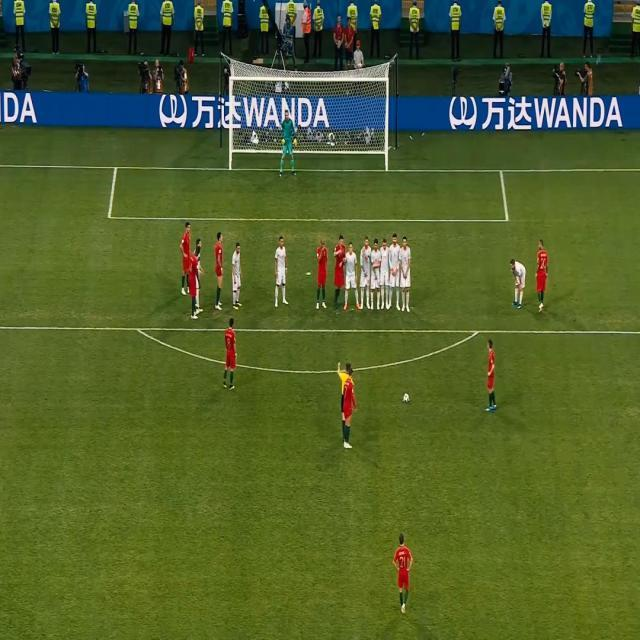ball: (402, 392, 410, 404)
goalkeeper: (277, 110, 299, 180)
player: (391, 532, 416, 618), (221, 315, 240, 392), (272, 233, 289, 310), (533, 238, 549, 316), (344, 240, 360, 311), (343, 369, 357, 450), (315, 238, 330, 313), (388, 232, 402, 312), (399, 235, 413, 314), (507, 256, 527, 310), (180, 221, 193, 297), (333, 235, 346, 311), (484, 340, 497, 414), (188, 247, 201, 319), (214, 231, 225, 311), (370, 238, 381, 310), (231, 242, 242, 310), (380, 238, 390, 310), (196, 233, 205, 311), (360, 236, 369, 310)
referee: (338, 360, 356, 391)
